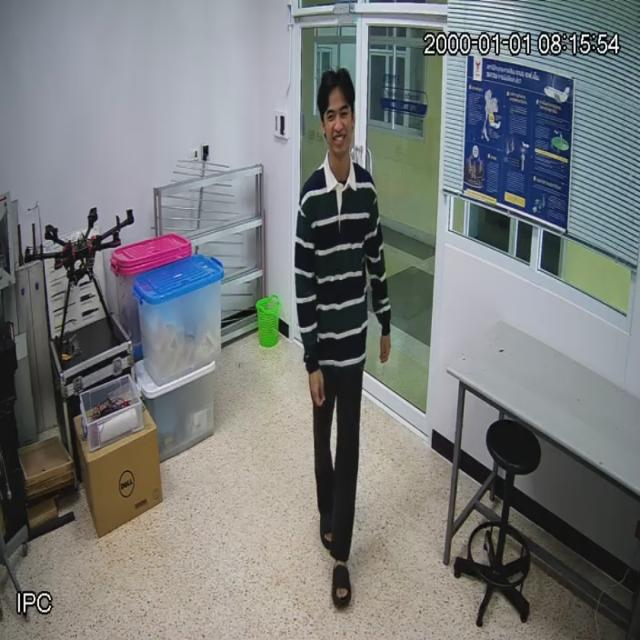normal: (296, 68, 391, 603)
